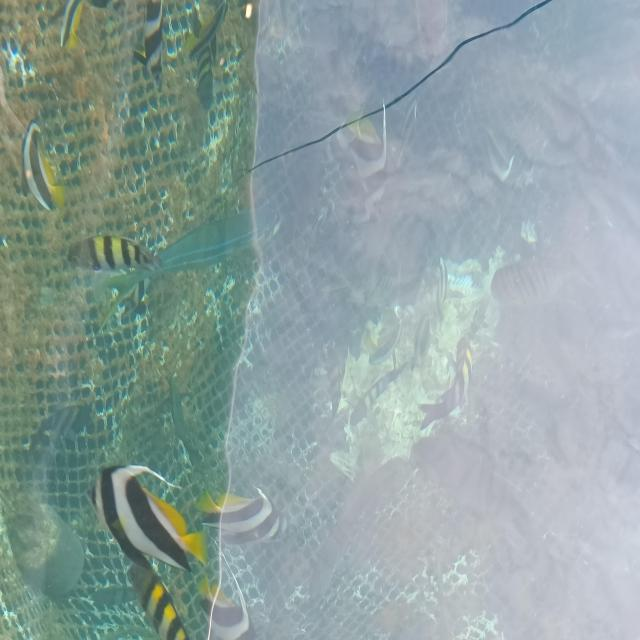ikan: (87, 462, 208, 575), (195, 486, 286, 546), (418, 337, 473, 432), (126, 562, 188, 639), (20, 119, 65, 212), (67, 233, 163, 276), (490, 256, 566, 309), (198, 573, 253, 639), (58, 0, 84, 50)
